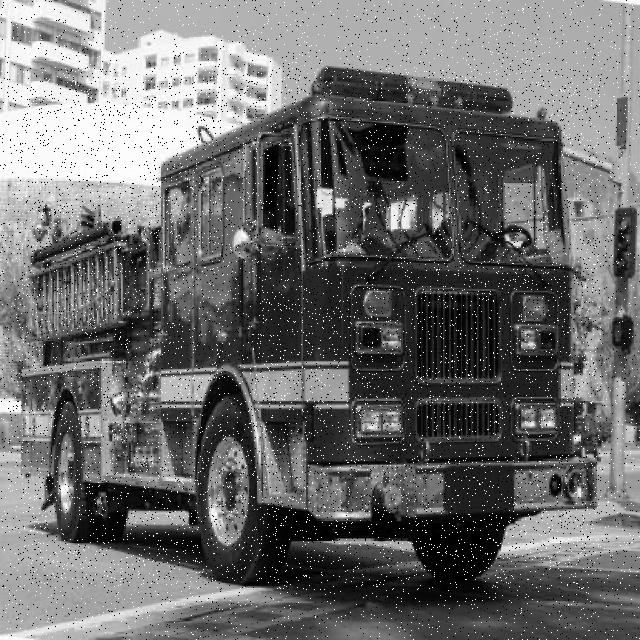Fire Truck: (17, 68, 601, 589)
